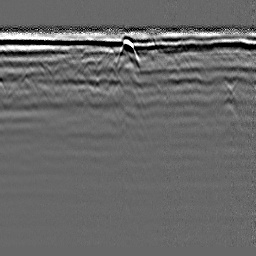cavity: (113, 35, 140, 69)
